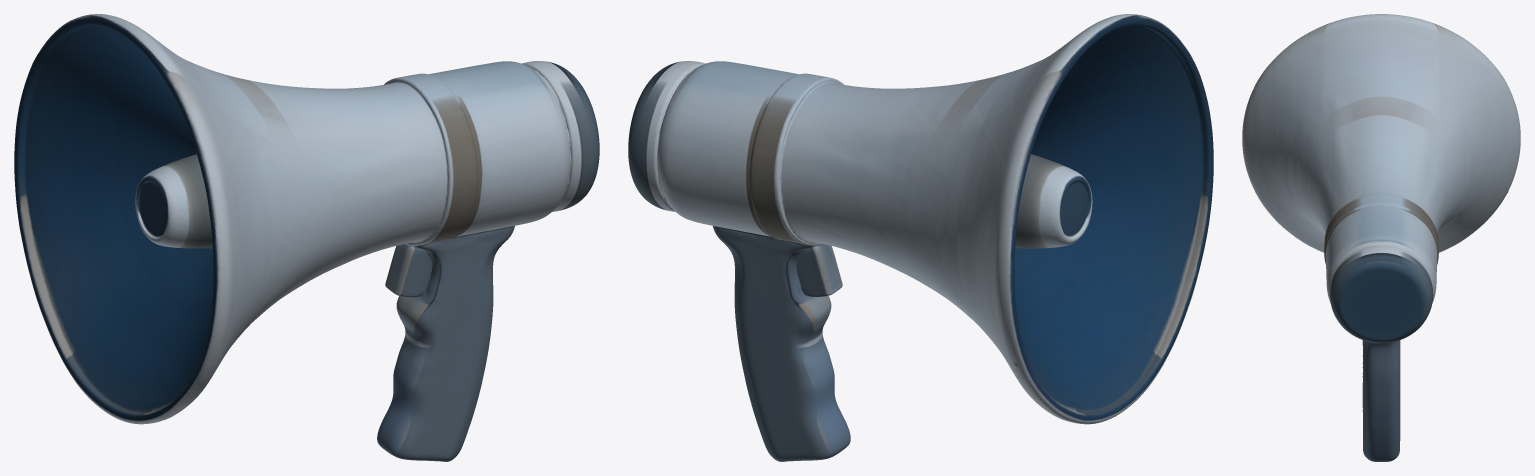
The model's file is tripo_convert_747cbaf0-b3f6-4b28-86b5-5a578ba355db.glb.
3 renders of one model, left to right at view 1: azimuth 30°, elevation 25°; view 2: azimuth 150°, elevation 25°; view 3: azimuth 270°, elevation 25°, orthographic. The views are drawn at different scales.
Parts seen in each view (by area): view 1: tripo_node_747cbaf0-b3f6-4b28-86b5-5a578ba355db; view 2: tripo_node_747cbaf0-b3f6-4b28-86b5-5a578ba355db; view 3: tripo_node_747cbaf0-b3f6-4b28-86b5-5a578ba355db.
Part boxes in pixels (x1,y1,x2,y2): tripo_node_747cbaf0-b3f6-4b28-86b5-5a578ba355db: (14,14,599,461); tripo_node_747cbaf0-b3f6-4b28-86b5-5a578ba355db: (628,14,1213,461); tripo_node_747cbaf0-b3f6-4b28-86b5-5a578ba355db: (1242,14,1520,461).
Size of the model in its own units: 0.9803 by 1 by 0.7361.
1 material, 1 textured.
